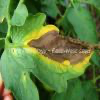Tomato Early blight leaf: (3, 9, 99, 97)
